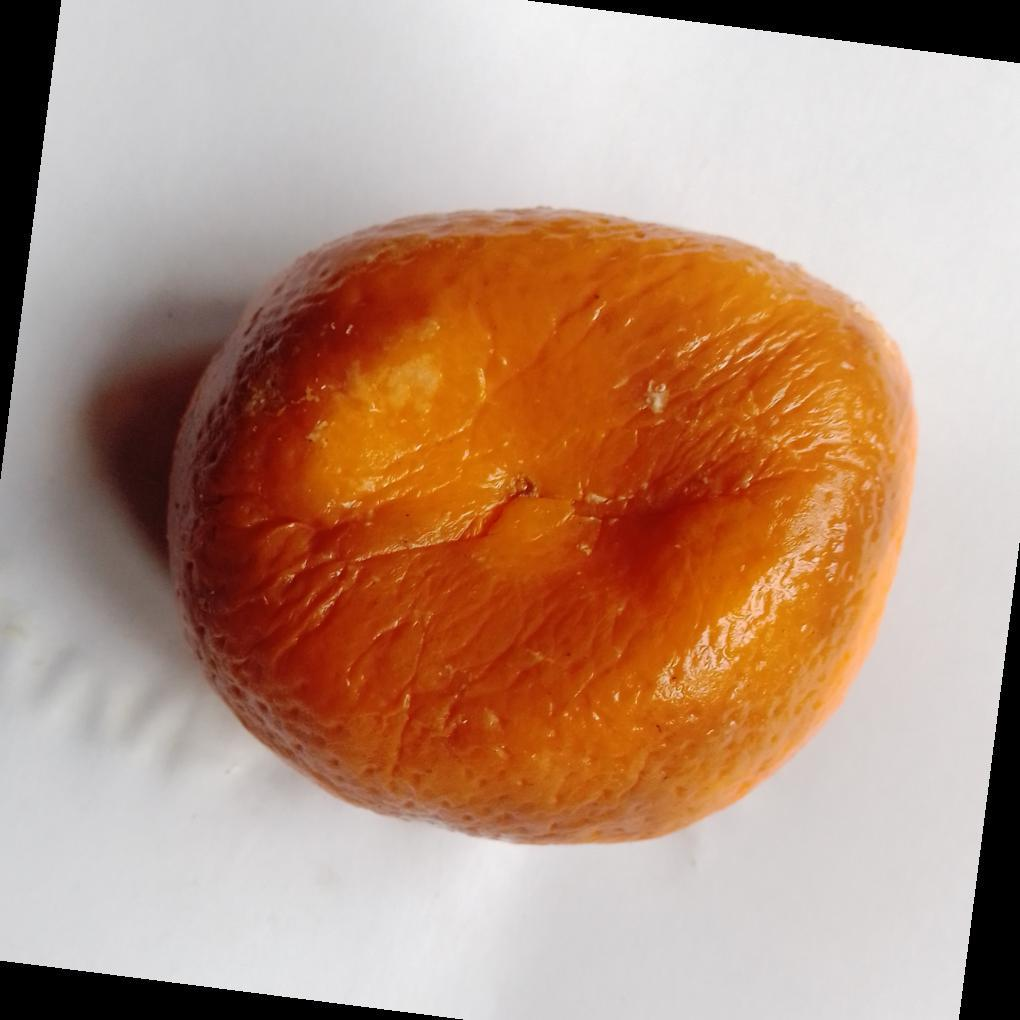FreshOrange: (164, 209, 919, 850)
